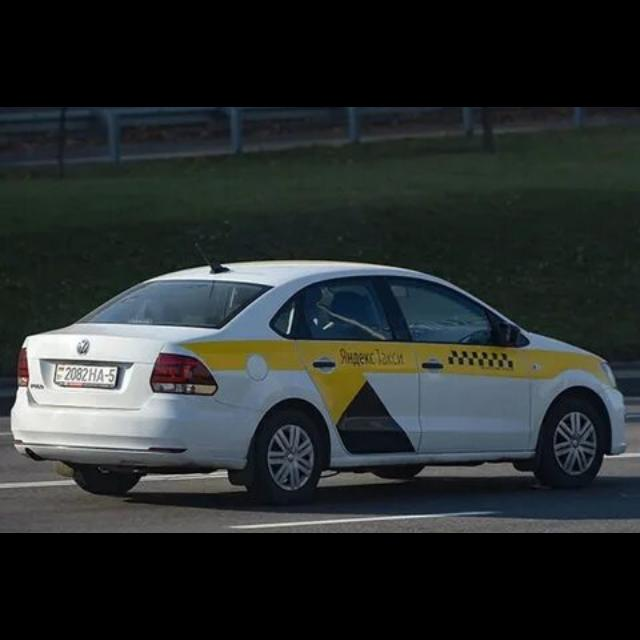taxi: (11, 243, 629, 507)
